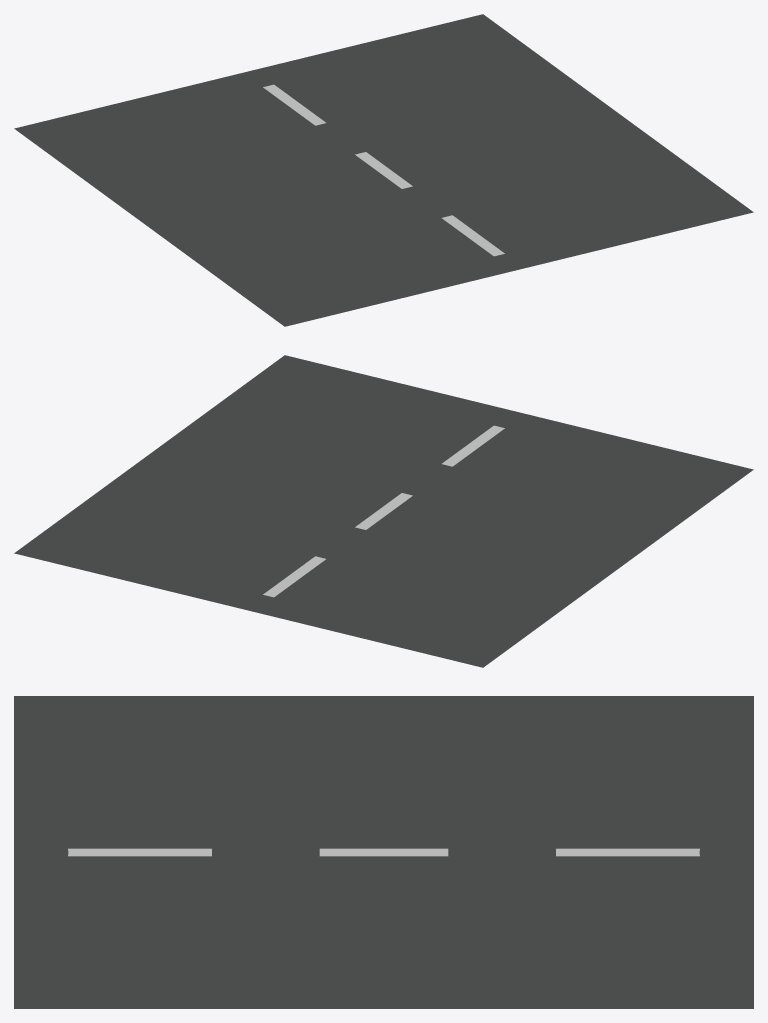
File: smallStreet_9.fbx
The picture shows the model from 3 angles, top to bottom: view 1: azimuth 30°, elevation 25°; view 2: azimuth 150°, elevation 25°; view 3: azimuth 270°, elevation 25°; orthographic projection. The views are drawn at different scales.
Parts seen in each view (by area): view 1: smallStreet_8; view 2: smallStreet_8; view 3: smallStreet_8.
Boxes of the visible parts, x1,y1,x2,y2 form: smallStreet_8: (14,14,753,326); smallStreet_8: (14,355,753,667); smallStreet_8: (14,696,753,1008).
Bounding box in the file's own units: 375 × 0 × 375.
